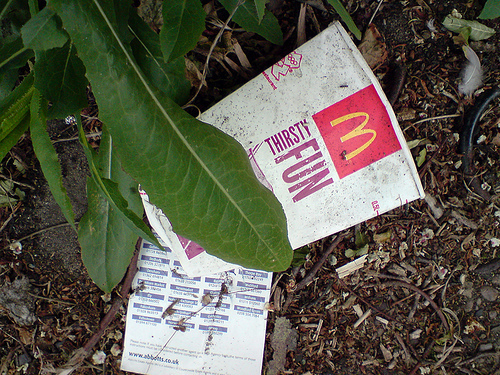litter: (140, 16, 423, 267), (121, 268, 265, 375)
